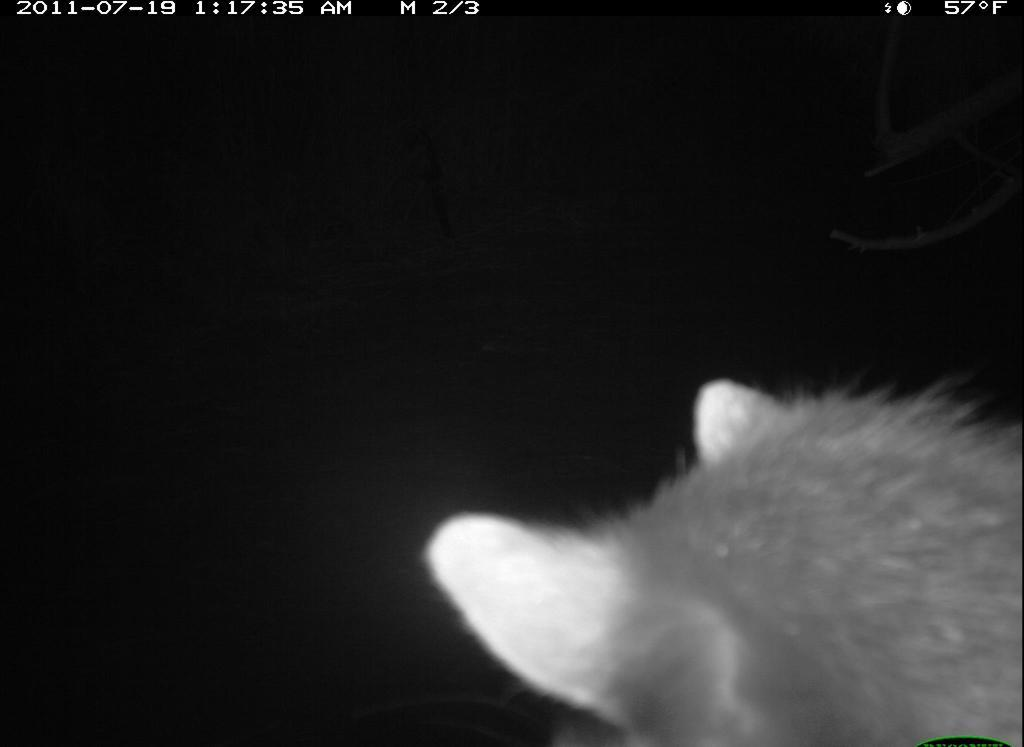raccoon: (411, 347, 1021, 747)
